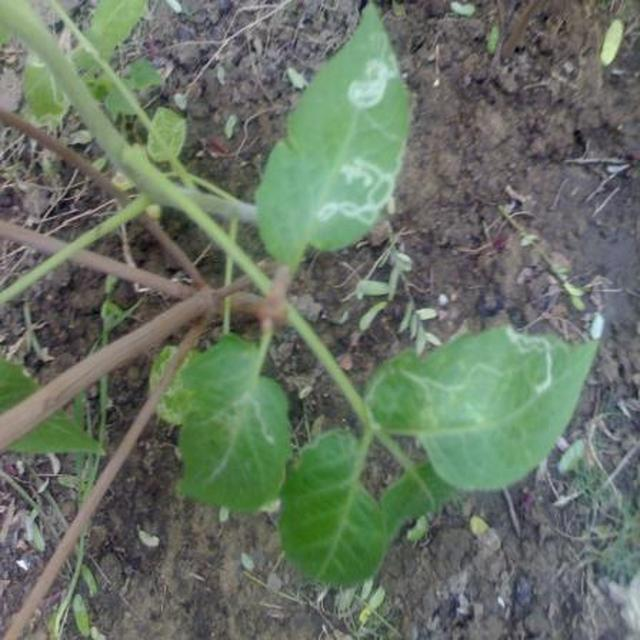Leaf Miner: (229, 191, 640, 581)
